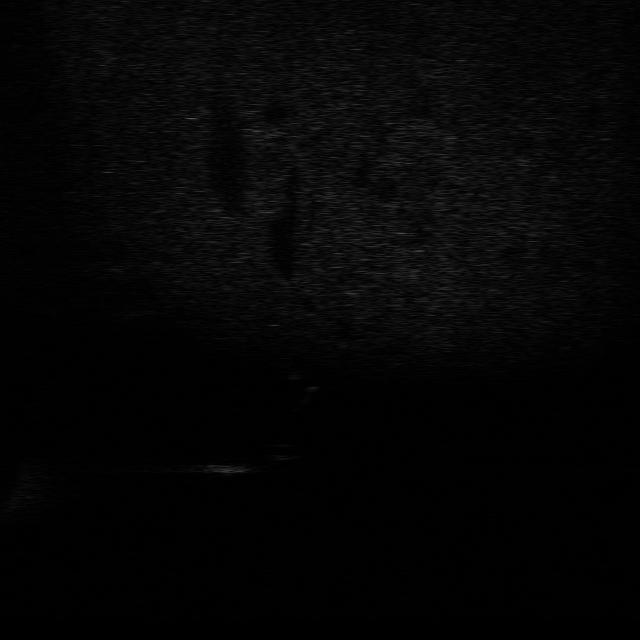ball: (261, 442, 301, 464)
human body: (280, 350, 324, 414)
square cage: (198, 452, 258, 481)
